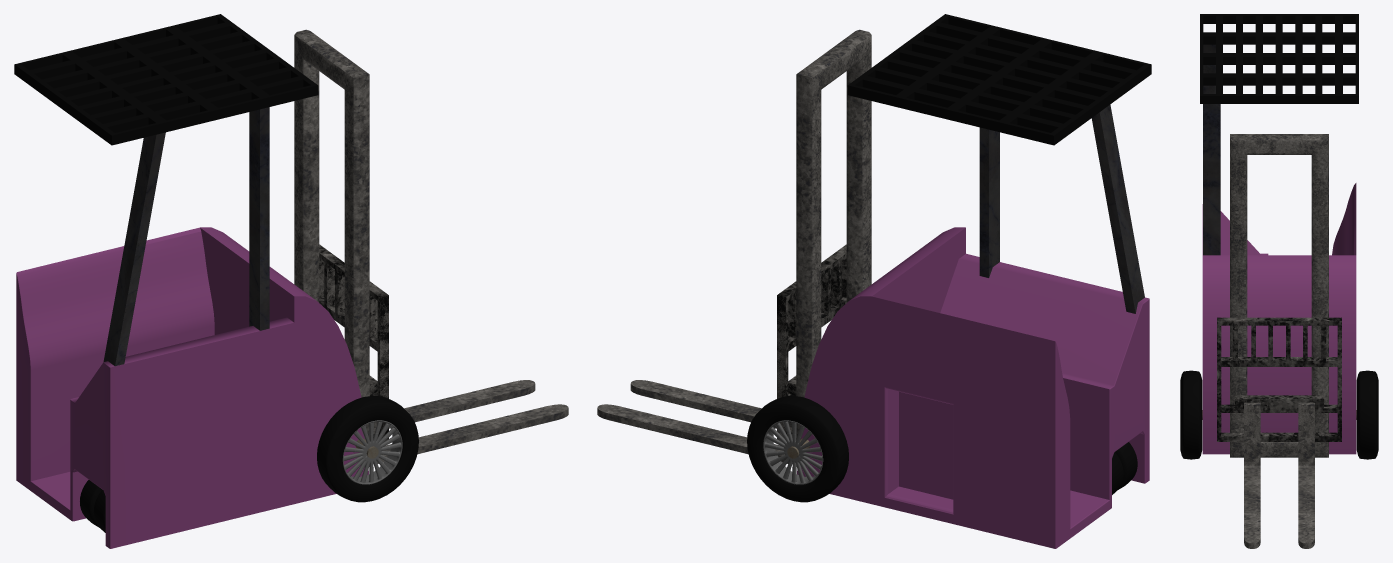
File: C_Forklift.fbx
3 views of the same model, side by side, from view 1: azimuth 30°, elevation 25°; view 2: azimuth 150°, elevation 25°; view 3: azimuth 270°, elevation 25° (orthographic). The views are drawn at different scales.
Visible parts, largest first — view 1: Body, OverheadGuard, Mast, DriveAxle, TireTread, Pole_02, Pole_01, LoadBackrest, Fork_01, Wheel, Fork_02; view 2: Body, OverheadGuard, Mast, DriveAxle, TireTread, Pole_02, LoadBackrest, Pole_01, Fork_02, Wheel, Fork_01; view 3: DriveAxle, Mast, OverheadGuard, LoadBackrest, TireTread (×2), Pole_01, Fork_01, Fork_02, Body.
Part boxes in pixels (<box>): Body: <box>16,227,294,548</box>; OverheadGuard: <box>14,14,318,145</box>; Mast: <box>294,29,369,439</box>; DriveAxle: <box>200,227,368,503</box>; TireTread: <box>317,396,418,502</box>; Pole_02: <box>103,132,165,366</box>; Pole_01: <box>249,107,269,330</box>; LoadBackrest: <box>319,244,388,441</box>; Fork_01: <box>369,375,568,463</box>; Wheel: <box>342,420,402,484</box>; Fork_02: <box>389,380,535,428</box>; Body: <box>871,253,1149,548</box>; OverheadGuard: <box>847,14,1151,145</box>; Mast: <box>796,29,871,439</box>; DriveAxle: <box>797,227,965,503</box>; TireTread: <box>747,396,848,502</box>; Pole_02: <box>1091,104,1144,313</box>; LoadBackrest: <box>777,244,846,441</box>; Pole_01: <box>979,127,999,277</box>; Fork_02: <box>597,375,796,463</box>; Wheel: <box>763,420,823,484</box>; Fork_01: <box>630,380,776,428</box>; DriveAxle: <box>1202,255,1356,454</box>; Mast: <box>1230,134,1328,457</box>; OverheadGuard: <box>1200,14,1358,103</box>; LoadBackrest: <box>1217,317,1341,441</box>; TireTread (×2): <box>1180,370,1378,459</box>; Pole_01: <box>1203,85,1220,255</box>; Fork_01: <box>1244,402,1260,548</box>; Fork_02: <box>1298,402,1314,548</box>; Body: <box>1202,183,1356,255</box>.
Bounding box in the file's own units: 12.99 × 10.7 × 5.62.
